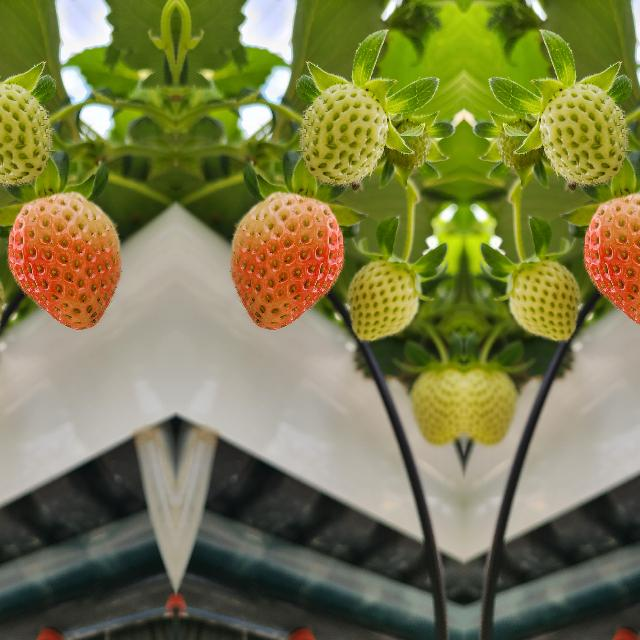Health_25: (291, 78, 397, 184), (529, 78, 635, 184), (0, 77, 59, 184), (352, 251, 416, 345), (510, 251, 574, 345), (408, 366, 462, 442), (464, 366, 518, 442)
Health_75: (230, 192, 342, 330), (8, 192, 120, 330), (583, 192, 640, 330)
